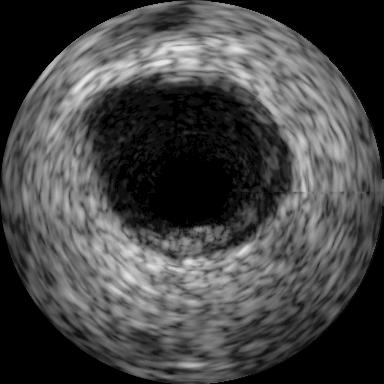Lumen: (155, 151, 235, 232)
